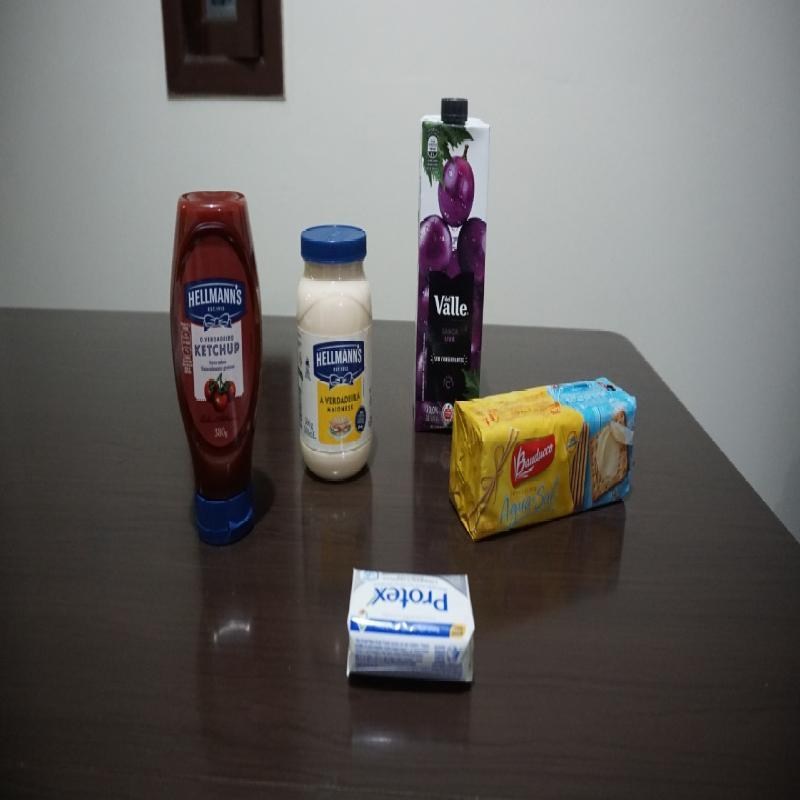Cracker: (445, 374, 638, 543)
Ketchup: (170, 186, 264, 548)
Mayonnaise: (293, 220, 378, 485)
Soap: (341, 565, 478, 693)
